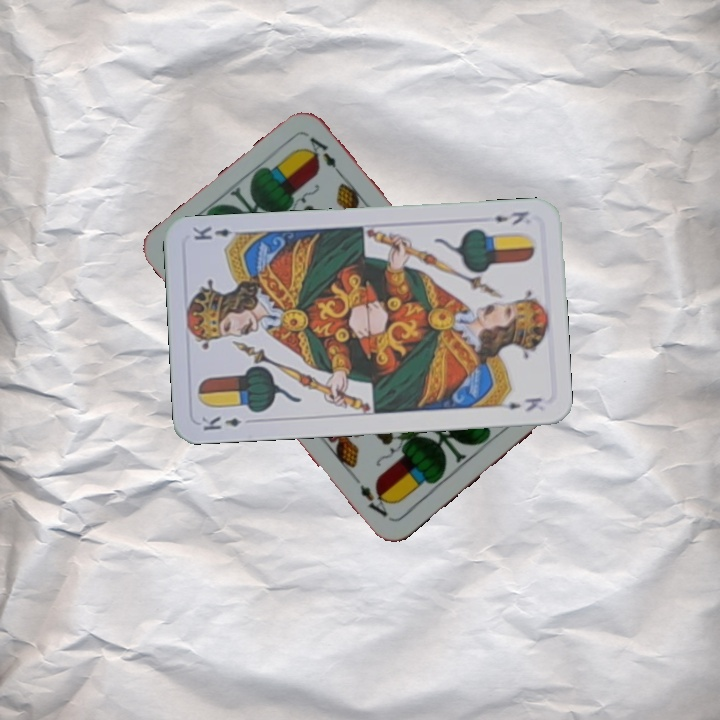EK: (197, 412, 244, 433), (490, 207, 531, 228)
